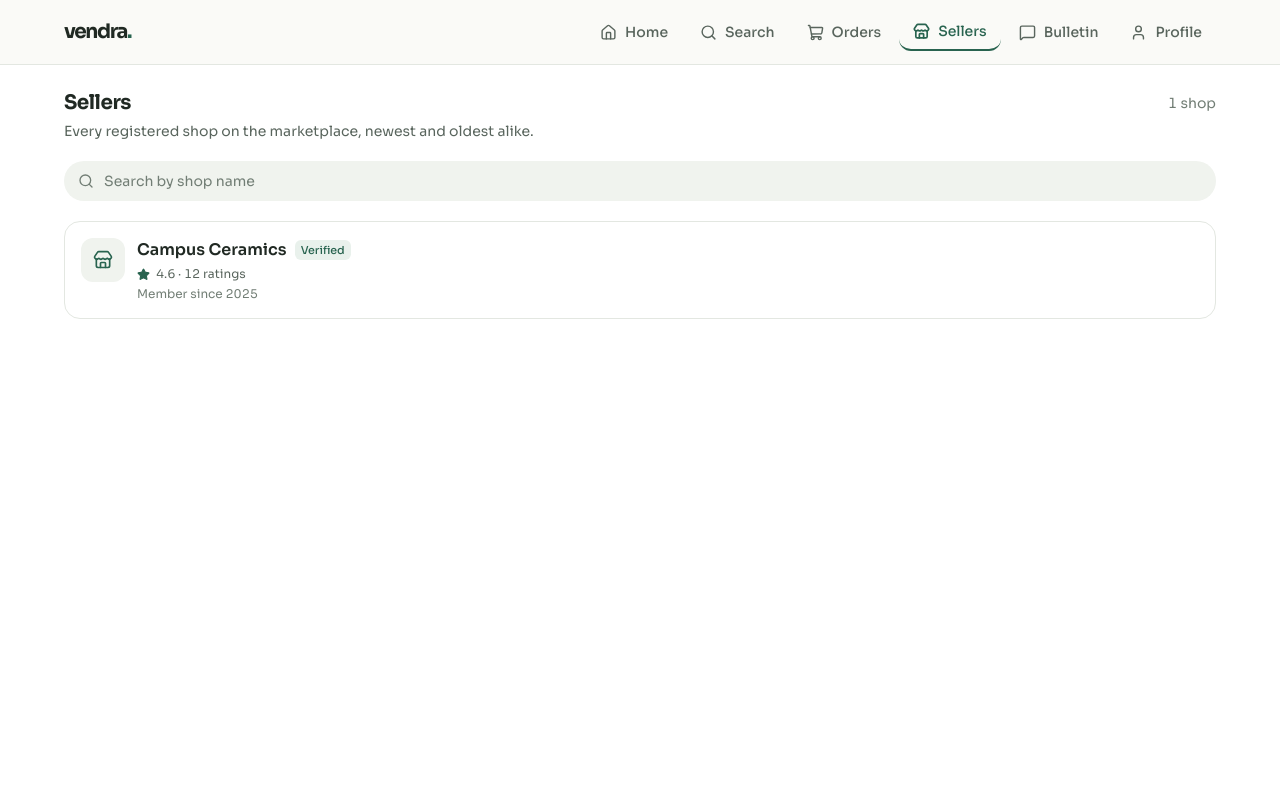
Test case: Vendors › takes the shopper from a shop in the directory to its page
Click the link "Campus Ceramics Verified 4.6 · 12 ratings Member since 2025".
click(216, 270)  # box [81, 238, 351, 301]
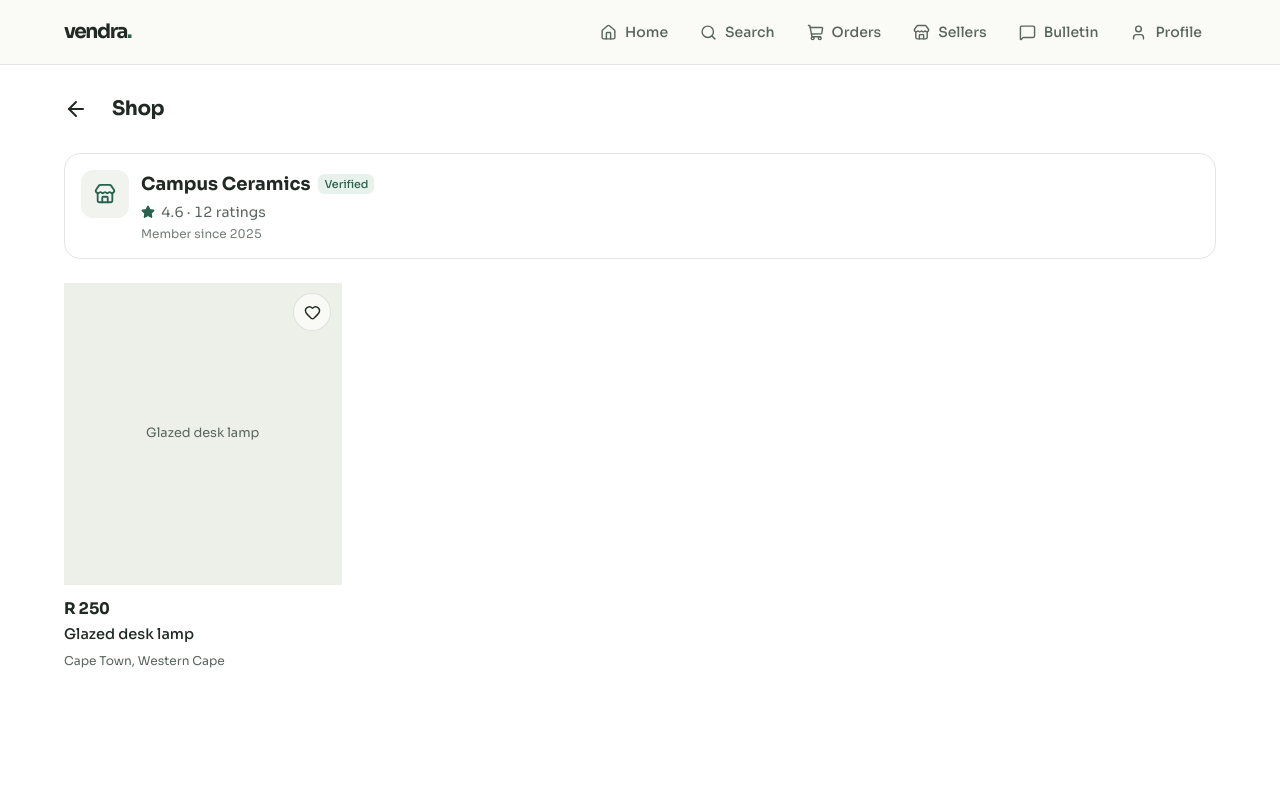
Expected: the heading "Shop" is shown, [112, 95, 164, 123]
Expected: the heading "Glazed desk lamp" is shown, [64, 625, 194, 643]
